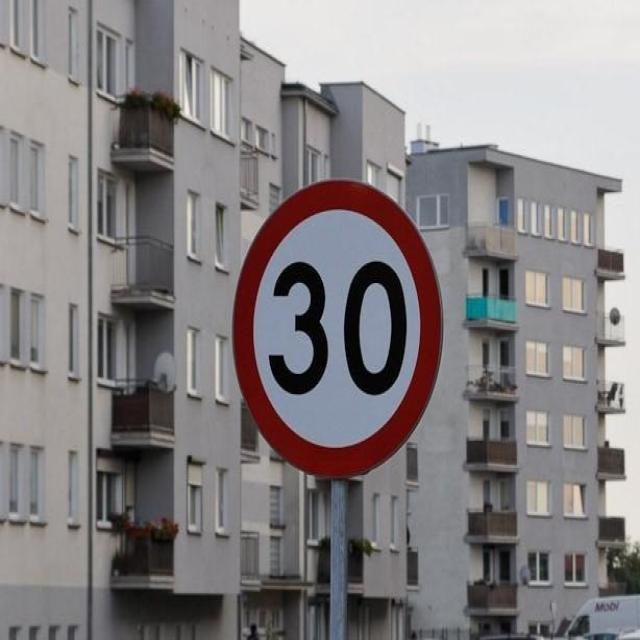Speed Limit -30-: (266, 256, 410, 397)
